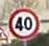limite 40: (7, 7, 40, 40)
